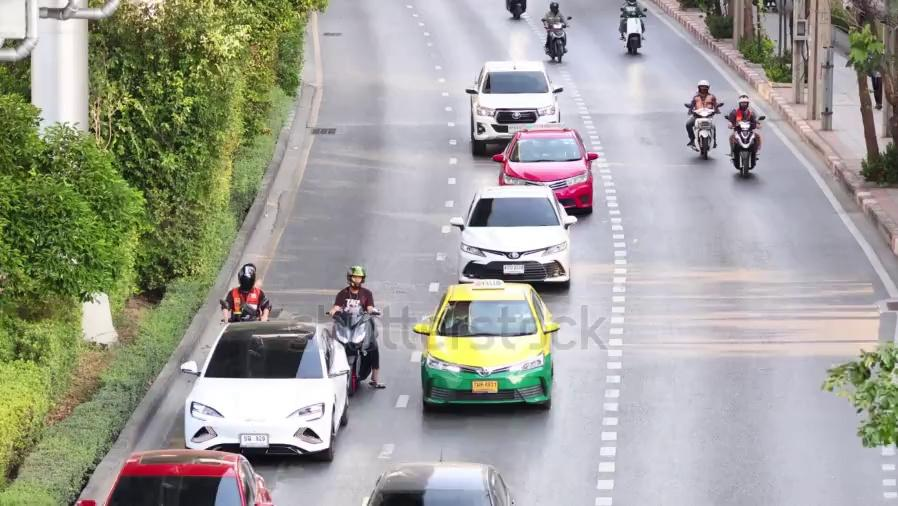rider: (329, 265, 386, 388), (219, 262, 271, 323), (684, 79, 720, 148), (725, 94, 760, 158), (541, 1, 567, 52), (618, 0, 647, 40)
with_helmate: (345, 265, 366, 289), (236, 270, 256, 287), (697, 81, 712, 95), (738, 96, 751, 109), (550, 5, 561, 13)
